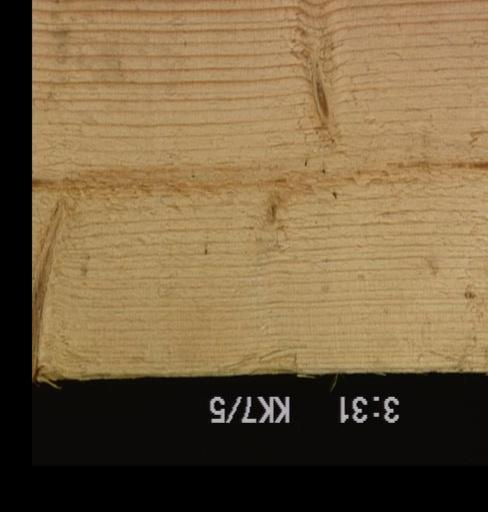small_knot: (251, 197, 283, 231)
